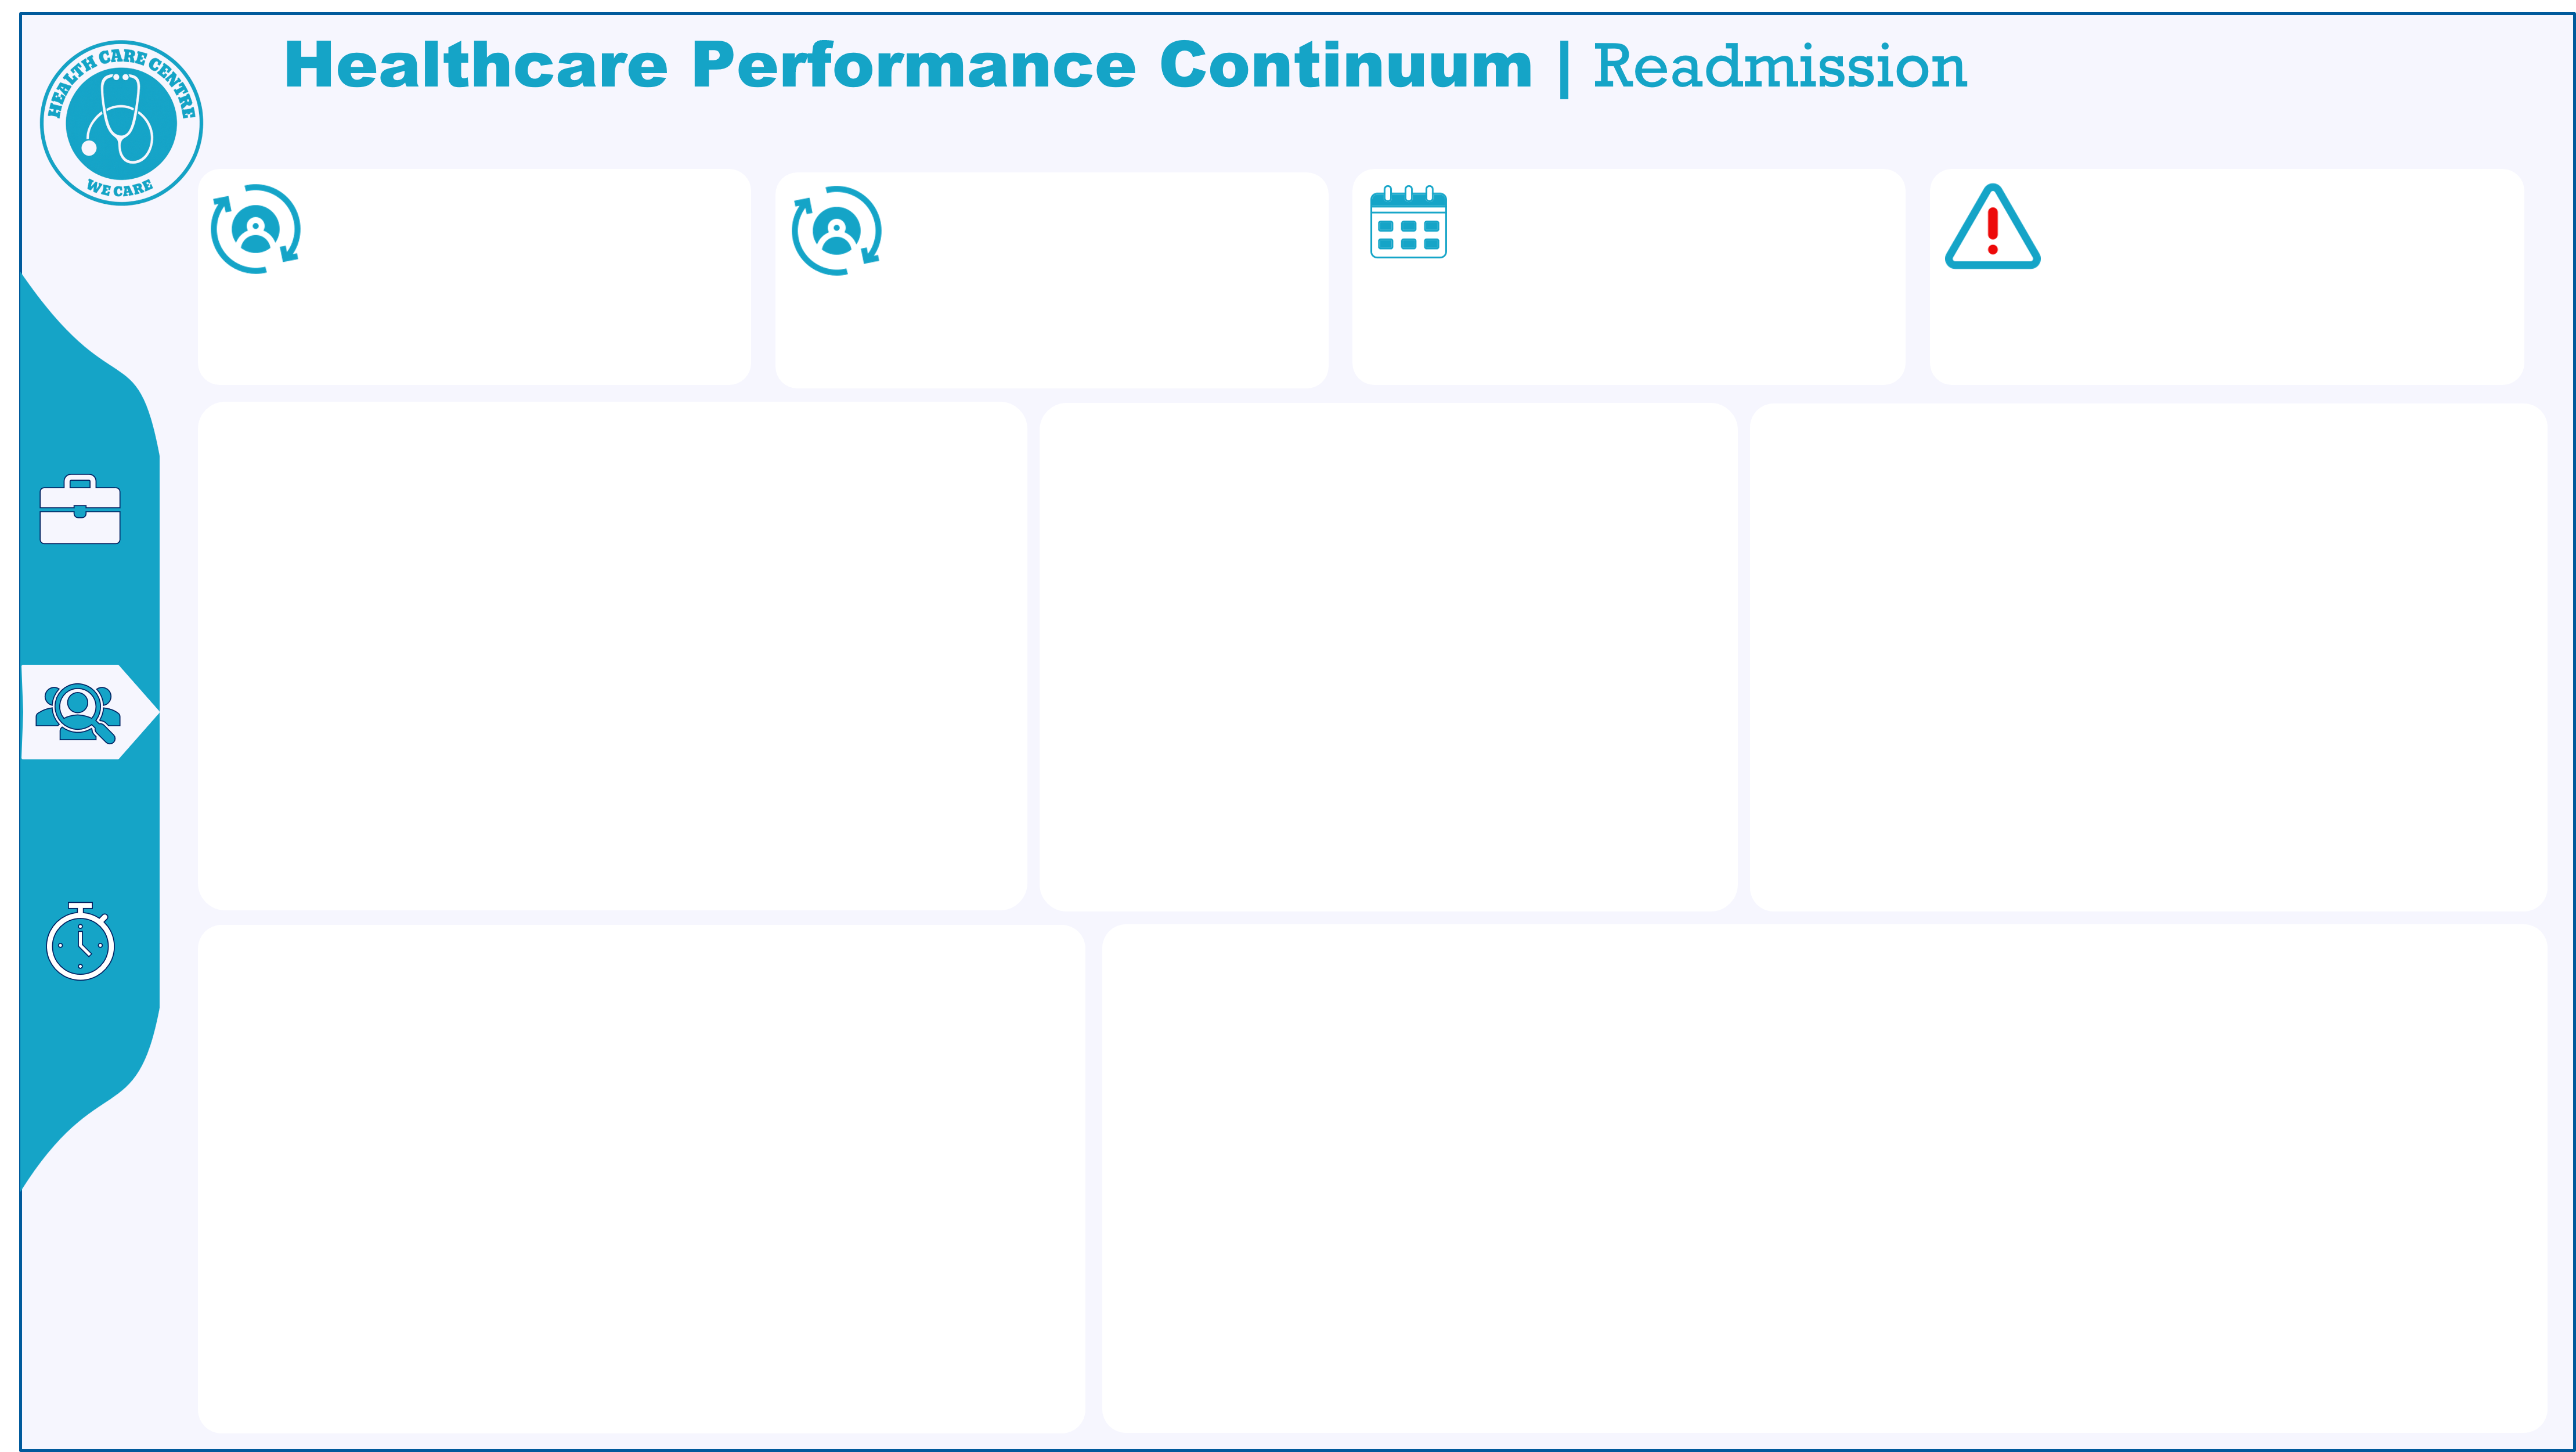

Layout of this report page (visuals, bound fields, positions):
{"tool":"powerbi","page":{"name":"Readmission","canvas":[1280,720],"ordinal":1},"visuals":[{"type":"card","title":"Total Readmission","fields":{"Values":["CountNonNull(Cleaned readmissions.Patient_ID)"]},"box":[100,78.5,275.3,108.6],"z":0},{"type":"card","title":"Readmission Rate %","fields":{"Values":["Cleaned readmissions.Readmission Rate (%)"]},"box":[387.1,80,275.3,108.2],"z":2000},{"type":"card","title":"Avg Days Before Readmission","fields":{"Values":["Avg(Cleaned readmissions.Days_Before_Readmission)"]},"box":[672.9,80,275.3,108.2],"z":3000},{"type":"card","title":"Maximum Risk Level","fields":{"Values":["Max(Cleaned readmissions.Previous_Risk_Score)"]},"box":[961.2,80,291.8,108.2],"z":4000},{"type":"clusteredBarChart","title":"Readmission Rate by Reason for Readmission","fields":{"Category":["Cleaned readmissions.Reason_For_Readmission"],"Y":["Cleaned readmissions.Readmission Rate (%)"]},"box":[100,200,408.2,248.2],"z":5000},{"type":"clusteredColumnChart","title":"Readmission Rate by Risk Level","fields":{"Category":["Cleaned readmissions.Previous_Risk_Score"],"Y":["Cleaned readmissions.Readmission Rate (%)"]},"box":[517.6,200,344.7,248.2],"z":6000},{"type":"clusteredBarChart","title":"Readmission Rate by Department","fields":{"Y":["Cleaned readmissions.Readmission Rate (%)"],"Category":["Cleaned patients.Admission_Department"]},"box":[871.8,200,391.8,249.4],"z":7000},{"type":"clusteredBarChart","title":"Readmission Rate by Chronic Condition","fields":{"Y":["Cleaned readmissions.Readmission Rate (%)"],"Category":["Cleaned patients.Chronic_Condition"]},"box":[100.5,461.2,441.1,249],"z":8000},{"type":"lineChart","title":"Readmission Rate Trend by Days Before Readmission","fields":{"Category":["Cleaned readmissions.Days_Before_Readmission (bins)"],"Y":["Cleaned readmissions.Readmission Rate (%)"]},"box":[550.5,461.2,719.1,247.9],"z":9000},{"type":"actionButton","box":[9.4,229.4,71.8,51.8],"z":10000},{"type":"actionButton","box":[9.4,329.4,71.8,51.8],"z":11000},{"type":"actionButton","box":[10.6,440,71.8,51.8],"z":12000},{"type":"actionButton","title":"F","box":[1015.3,5.9,114.1,74.1],"z":13000}]}

Visuals, with their boxes in screenshot pixels (x1, y1, x2, y2), scaled from the page's 1280x720 canvas onto the 2576x1452 screenshot:
"Total Readmission" card: bbox(201, 158, 755, 377)
"Readmission Rate %" card: bbox(779, 161, 1333, 380)
"Avg Days Before Readmission" card: bbox(1354, 161, 1908, 380)
"Maximum Risk Level" card: bbox(1935, 161, 2521, 380)
"Readmission Rate by Reason for Readmission" clusteredBarChart: bbox(201, 403, 1023, 904)
"Readmission Rate by Risk Level" clusteredColumnChart: bbox(1042, 403, 1736, 904)
"Readmission Rate by Department" clusteredBarChart: bbox(1755, 403, 2543, 906)
"Readmission Rate by Chronic Condition" clusteredBarChart: bbox(202, 930, 1090, 1432)
"Readmission Rate Trend by Days Before Readmission" lineChart: bbox(1108, 930, 2555, 1430)
actionButton: bbox(19, 463, 164, 567)
actionButton: bbox(19, 664, 164, 769)
actionButton: bbox(21, 887, 166, 992)
"F" actionButton: bbox(2043, 12, 2273, 161)
